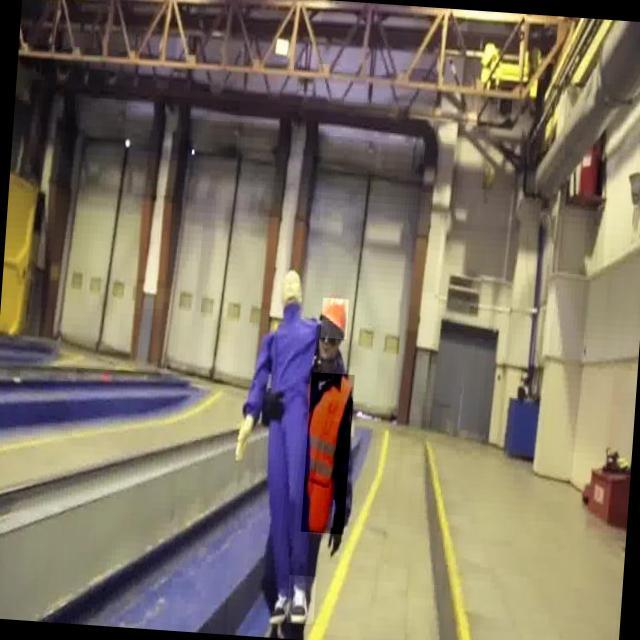Gloves: (319, 499, 365, 568), (259, 384, 292, 437)
Helmet: (320, 297, 349, 339)
Person: (250, 282, 380, 640)
Safety Vest: (301, 372, 355, 535)
